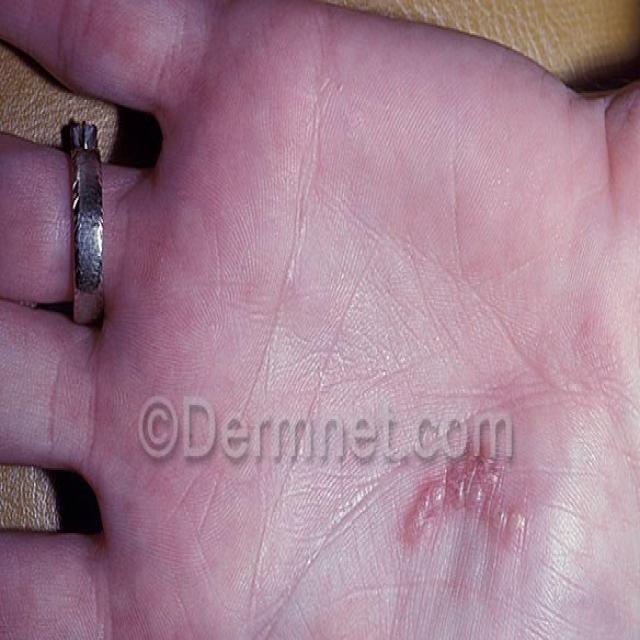Viral Infections: (381, 410, 536, 574)
